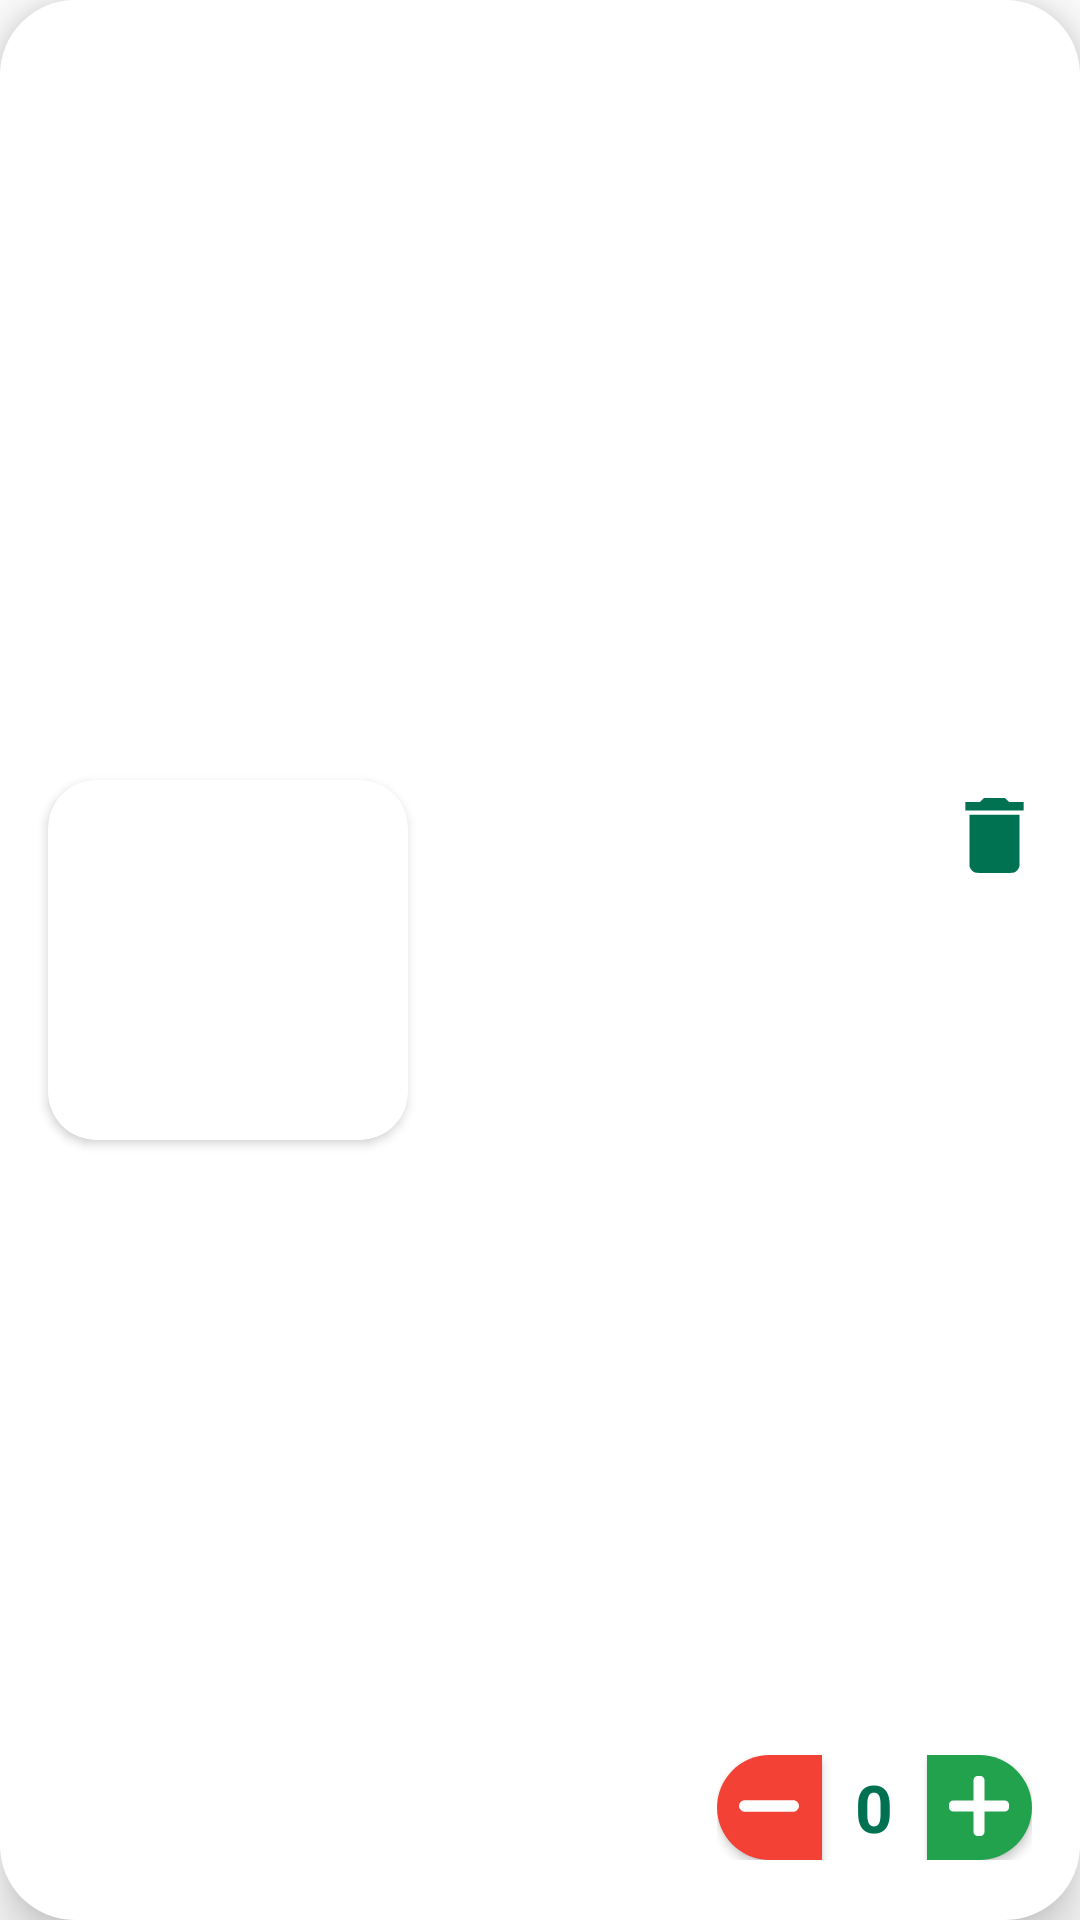

Icons on this 1080×1920 Android screen, each with the point to tap as point (x, y):
delete: point (994, 835)
